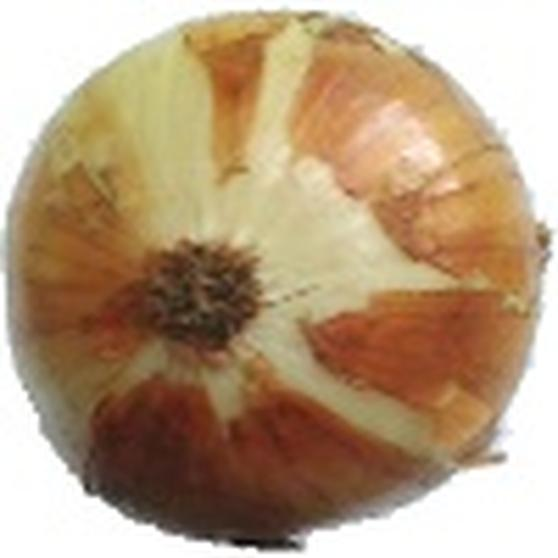onion: (3, 9, 558, 553)
